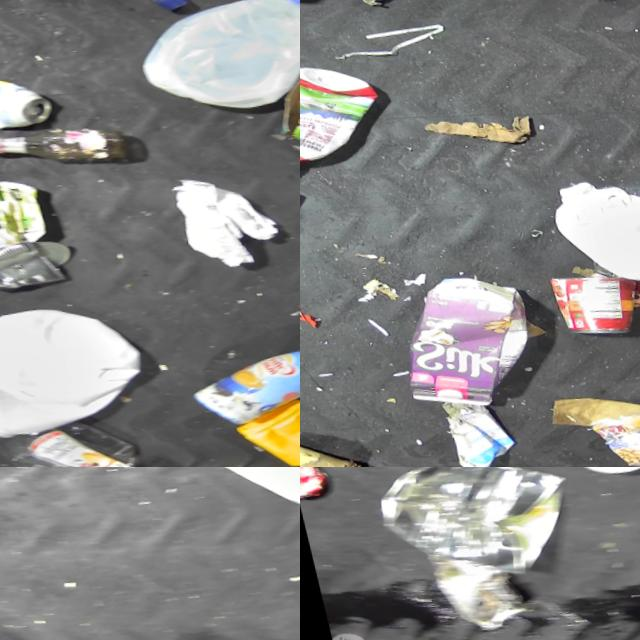can: (345, 467, 579, 595), (409, 538, 523, 640), (537, 255, 640, 334), (0, 222, 74, 300), (573, 385, 640, 465), (0, 62, 52, 135), (300, 467, 324, 504)
milk_jug: (0, 282, 151, 453), (118, 0, 300, 121), (537, 150, 640, 291)
non_white_jug: (374, 256, 542, 413), (300, 47, 392, 184)
